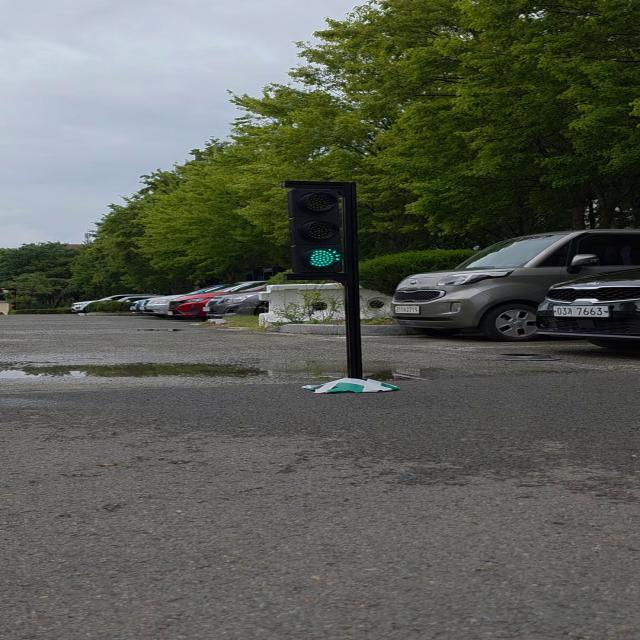green: (290, 182, 362, 279)
